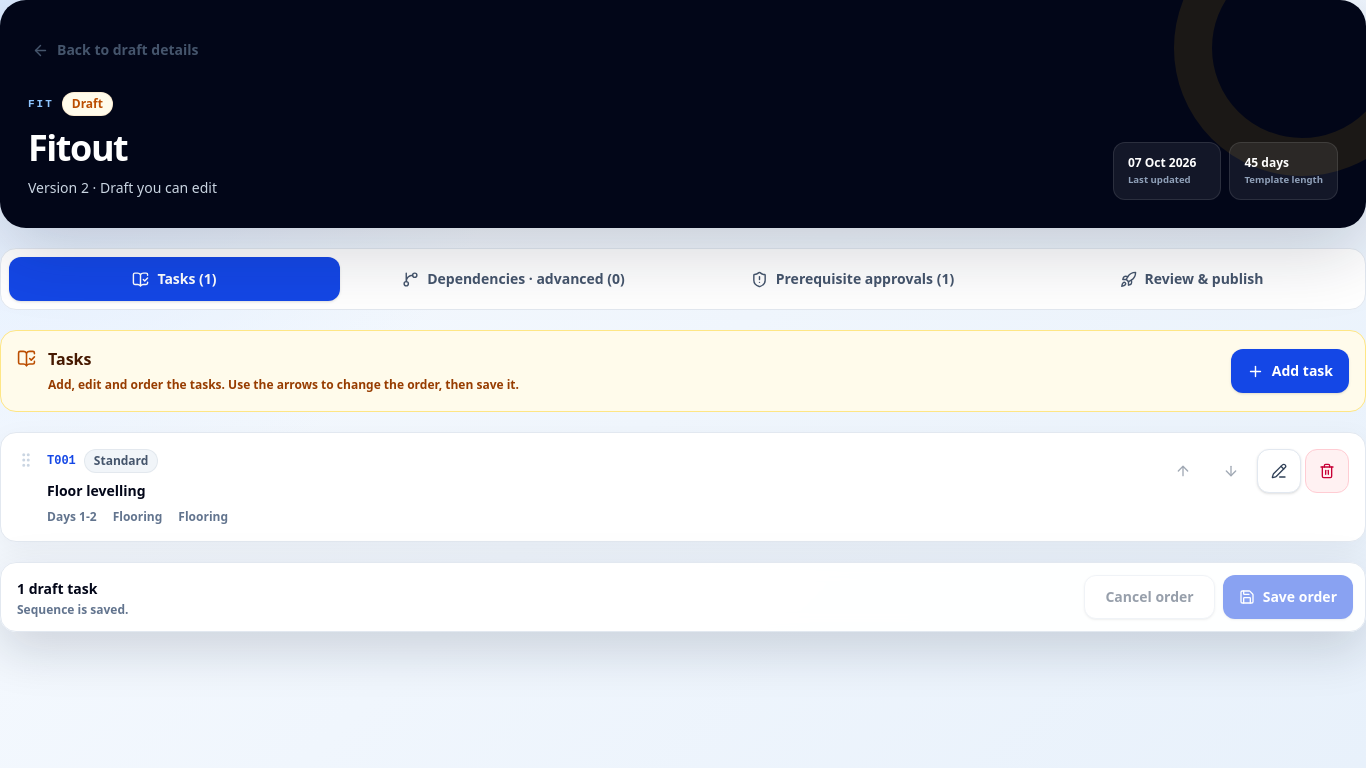
task reference material › asks to save a new task before adding files
The image size is (1366, 768).
Expected: the element with test id "draft-task-T001" is shown, x1=0 y1=432 x2=1365 y2=542
Click the button "Add task": click(1290, 371) x1=1231 y1=349 x2=1349 y2=393
(page scrolled)
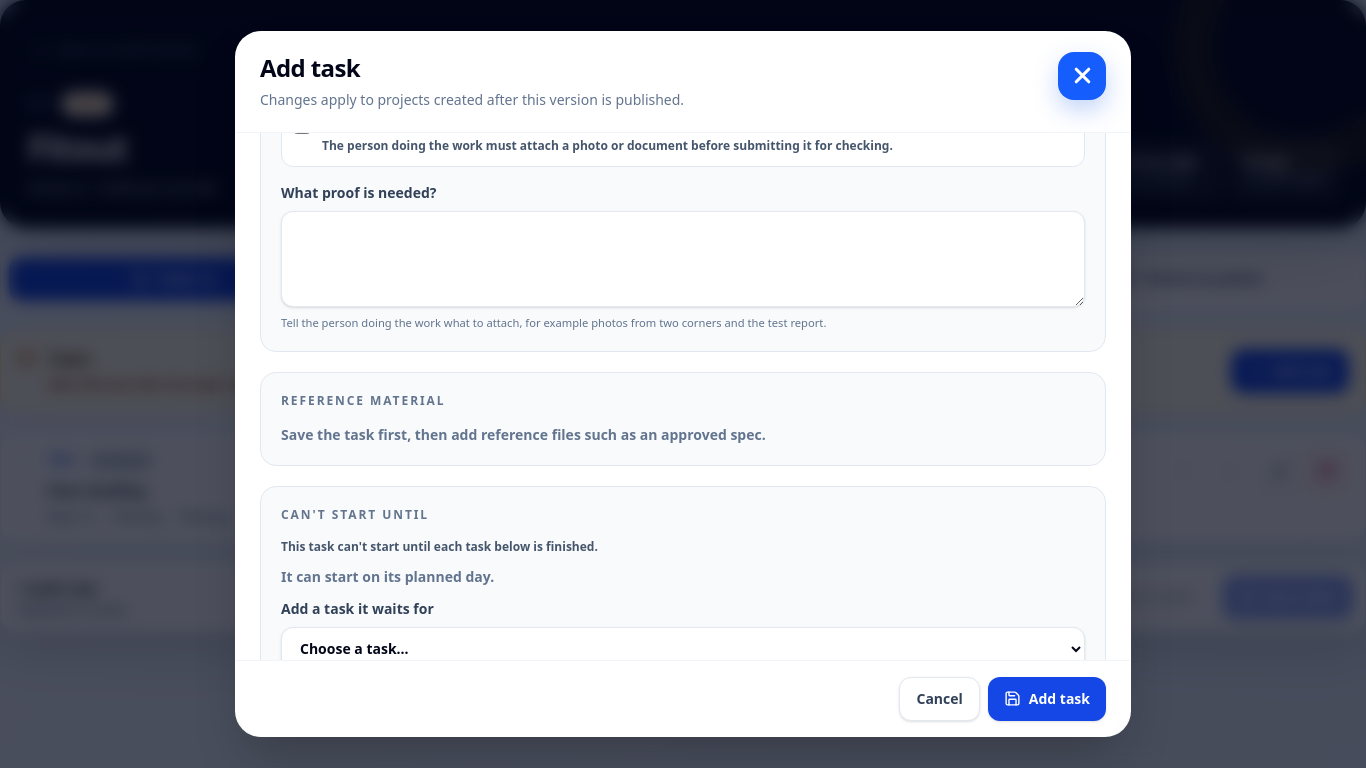
Expected: the text "Save the task first" is shown, x1=281 y1=425 x2=766 y2=444
